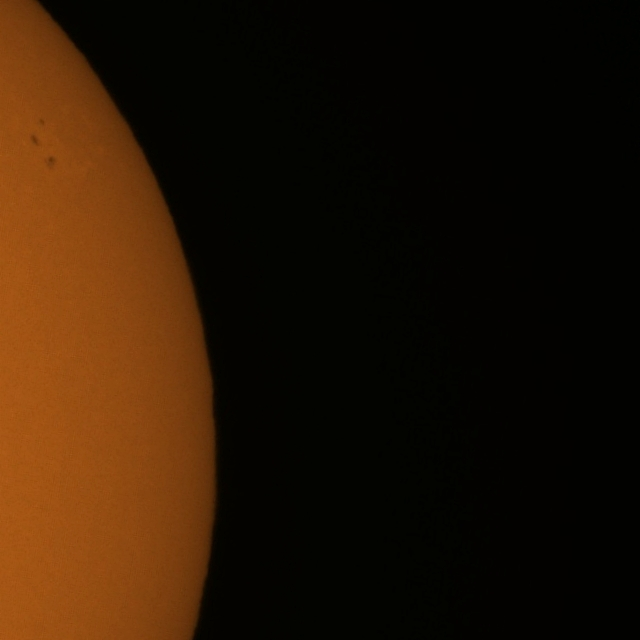sunspot: (31, 132, 56, 168), (44, 154, 58, 171), (37, 117, 46, 126)
